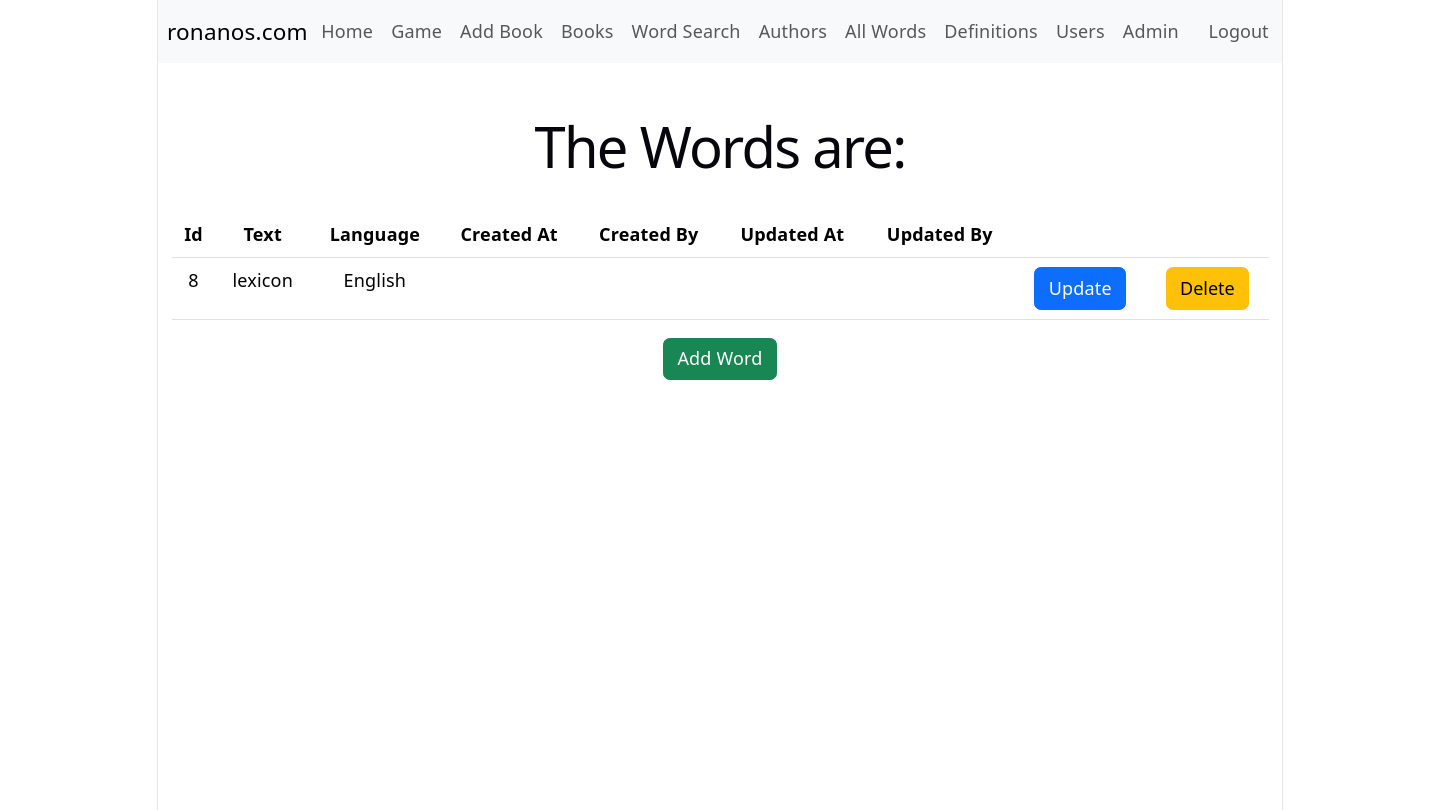
Test: ListWords › loads words and deletes after backend success
Expected: the text "lexicon" is shown, x1=216 y1=258 x2=310 y2=319
Click the button "Delete" at (1207, 288), box x1=1166 y1=267 x2=1249 y2=310
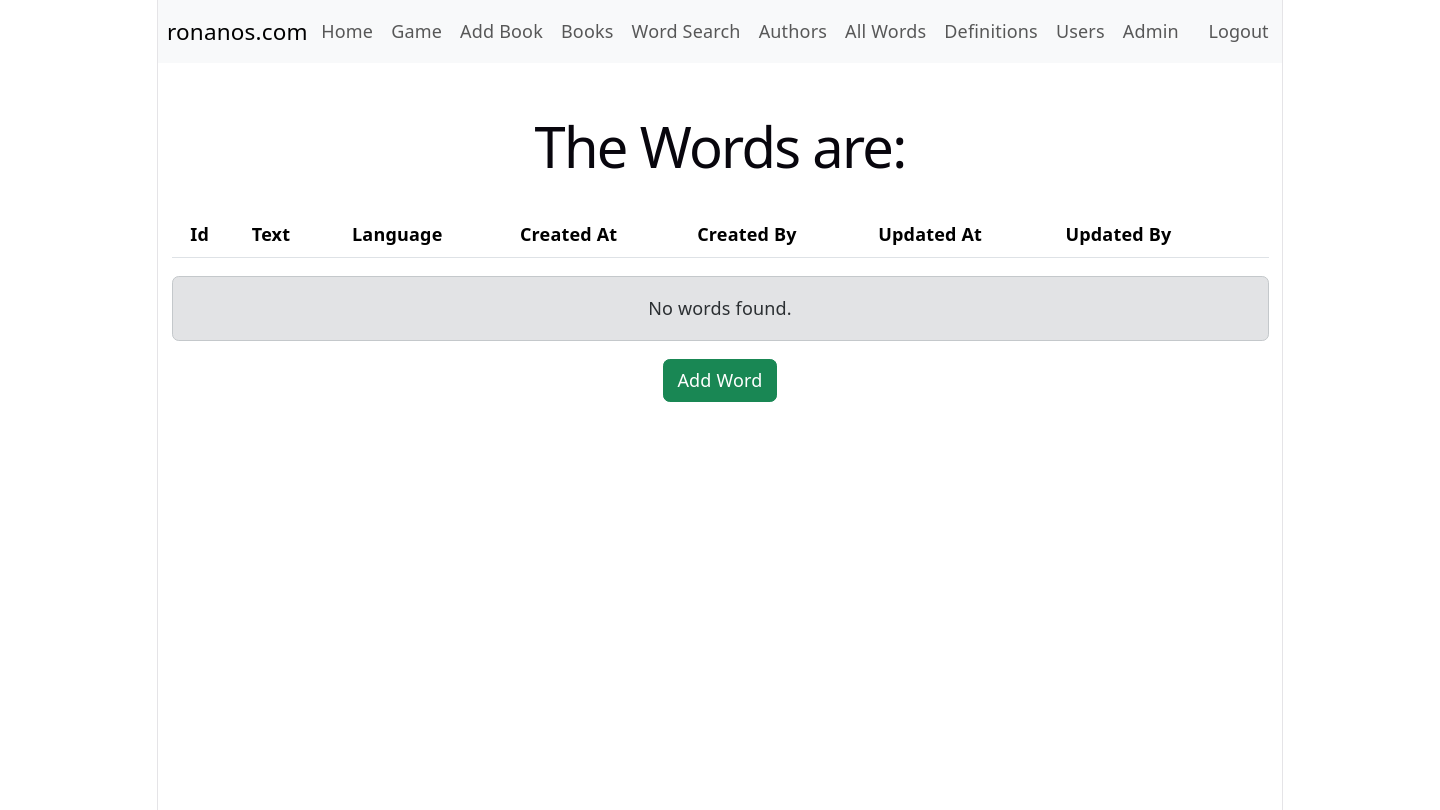
Now the text "lexicon" is gone
